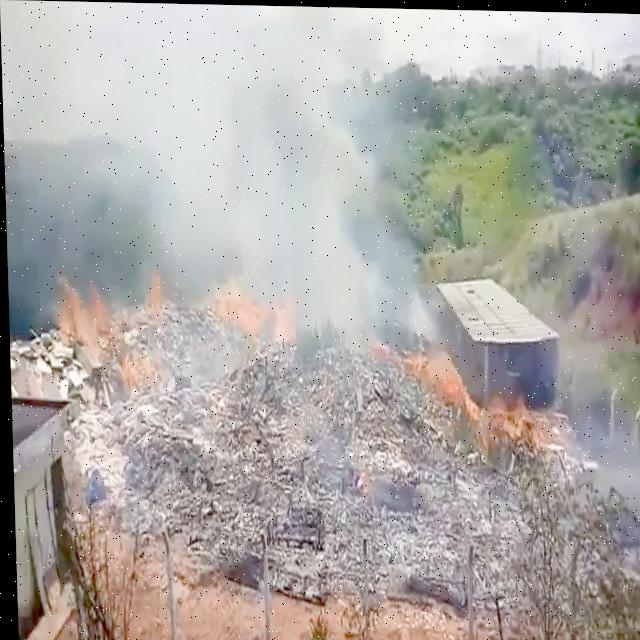Fire: (406, 346, 526, 442), (214, 276, 292, 344), (53, 272, 107, 337), (116, 346, 158, 388), (134, 272, 162, 312)
